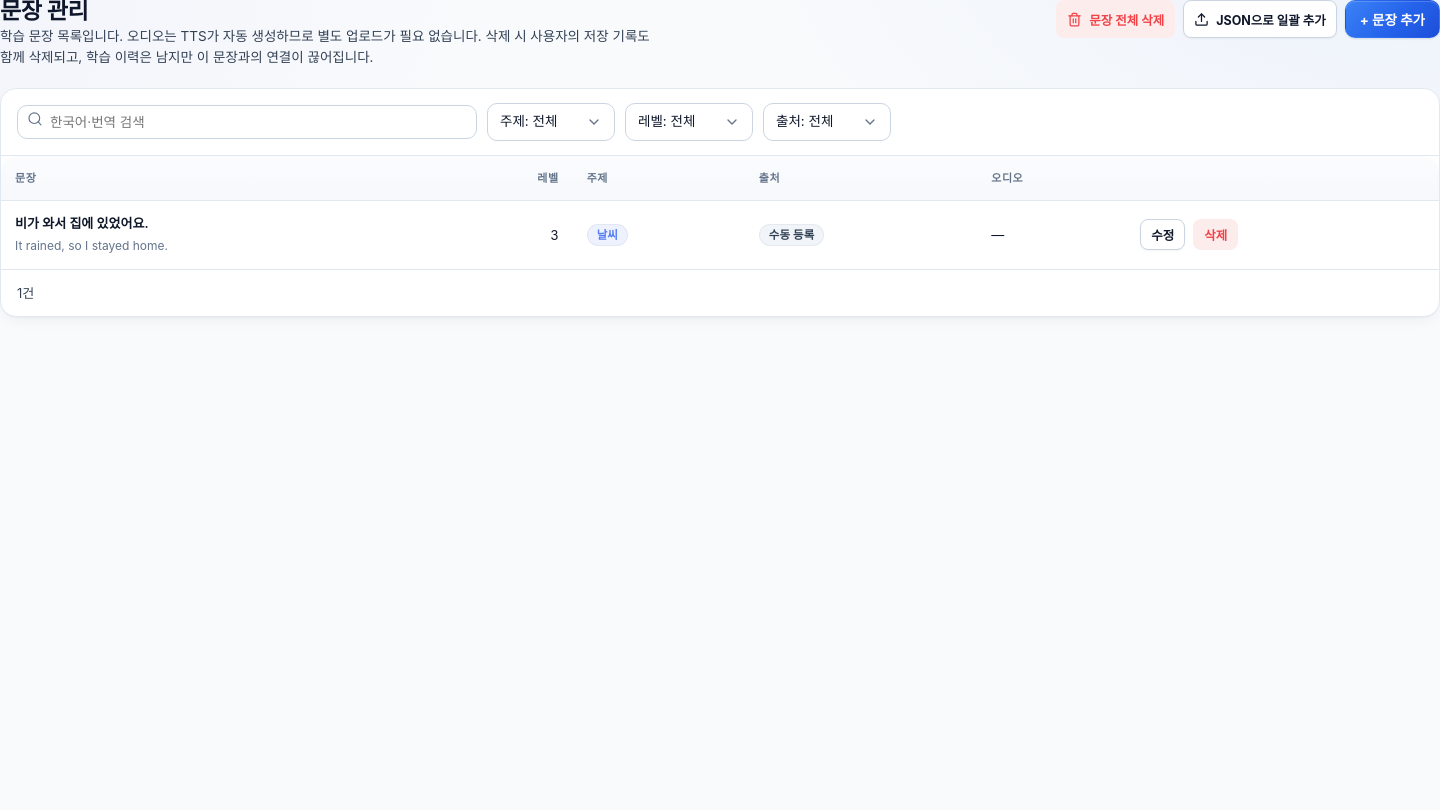
Scenario: SentencesPage editor › says a delete removes saved rows but only unlinks study history
The image size is (1440, 810).
What coordinates should you click on to do the following:
click the button "삭제"
I would click on:
 (1216, 235)
Its box is [1193, 219, 1238, 250].
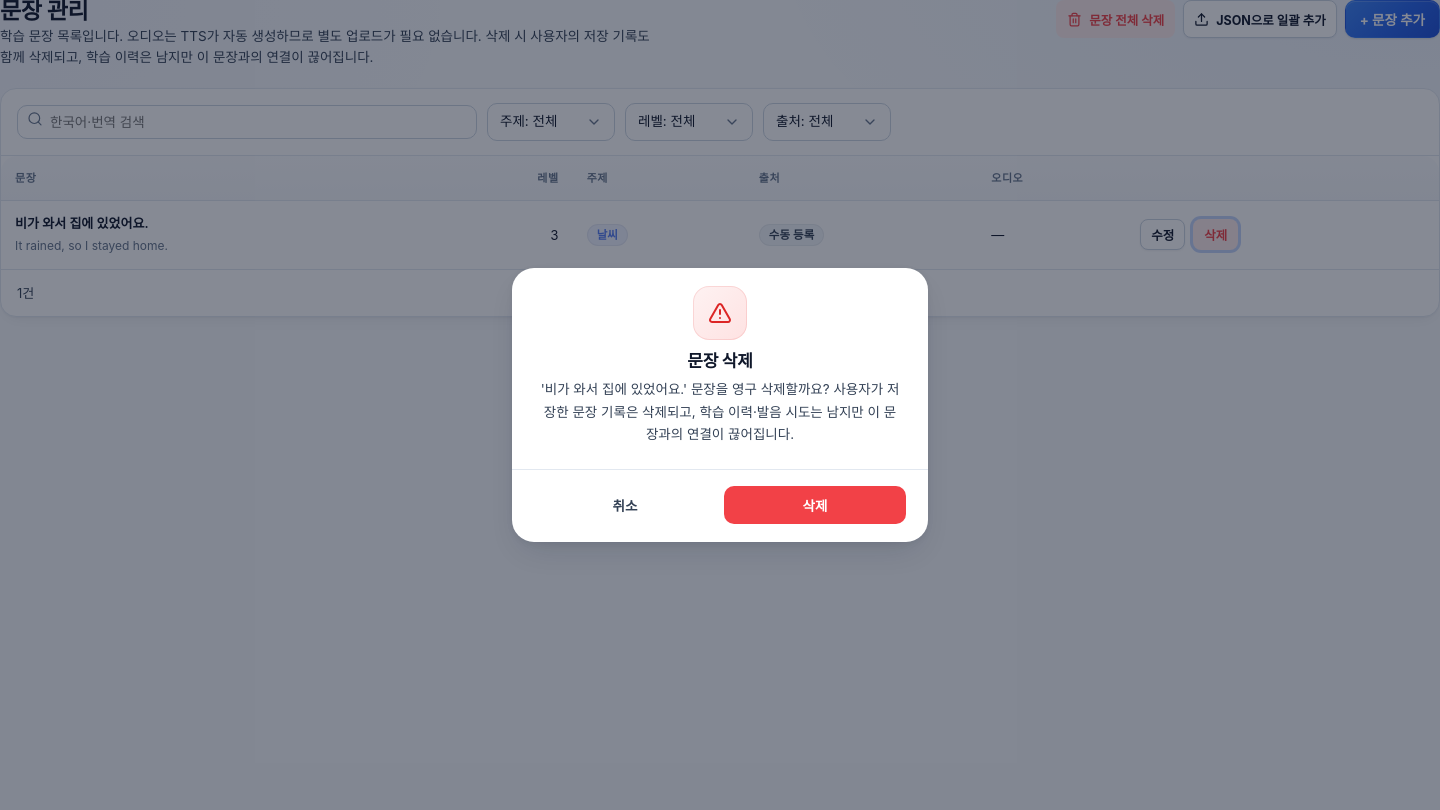
Check: the text "저장한 문장 기록은 삭제되고, 학습 이력·발음 시도는 남지만" is shown, box [541, 381, 899, 442]
